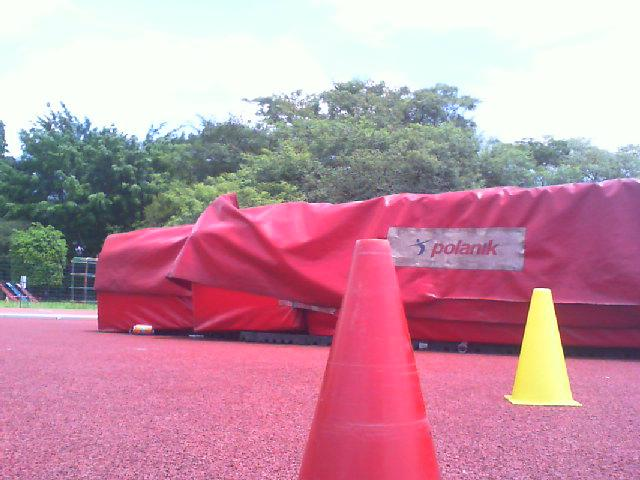0 cone: (293, 238, 446, 480), (502, 287, 584, 408)
